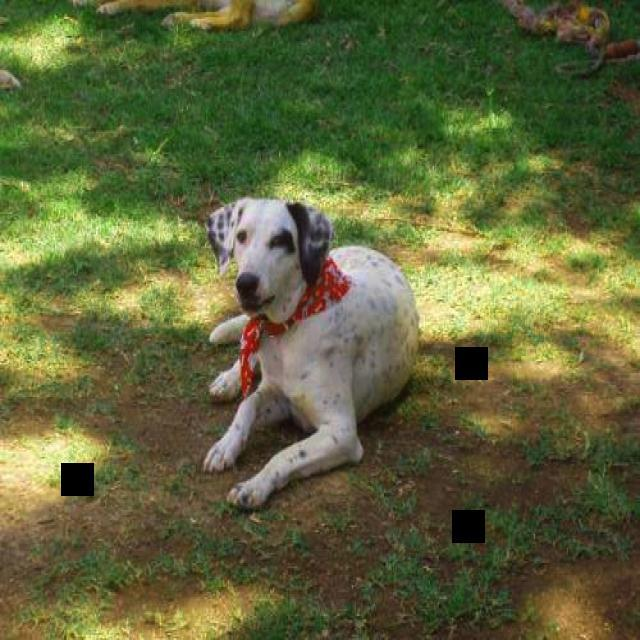adult_dog: (200, 195, 422, 510), (72, 0, 322, 34)
